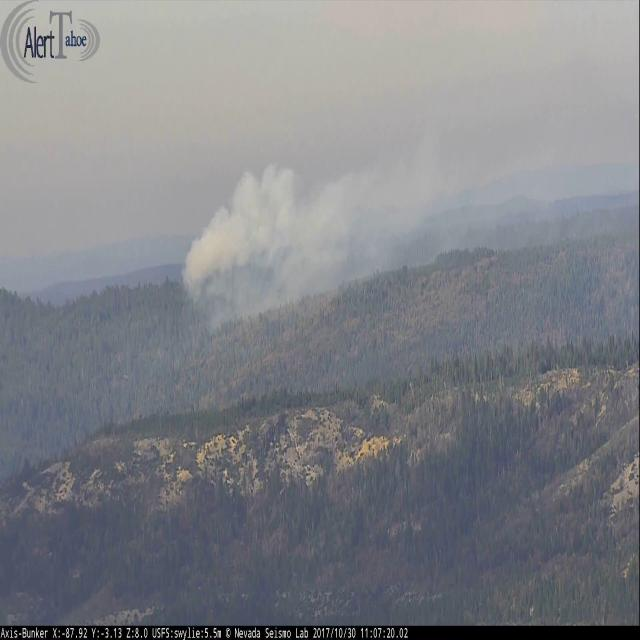smoke: (179, 126, 640, 323)
